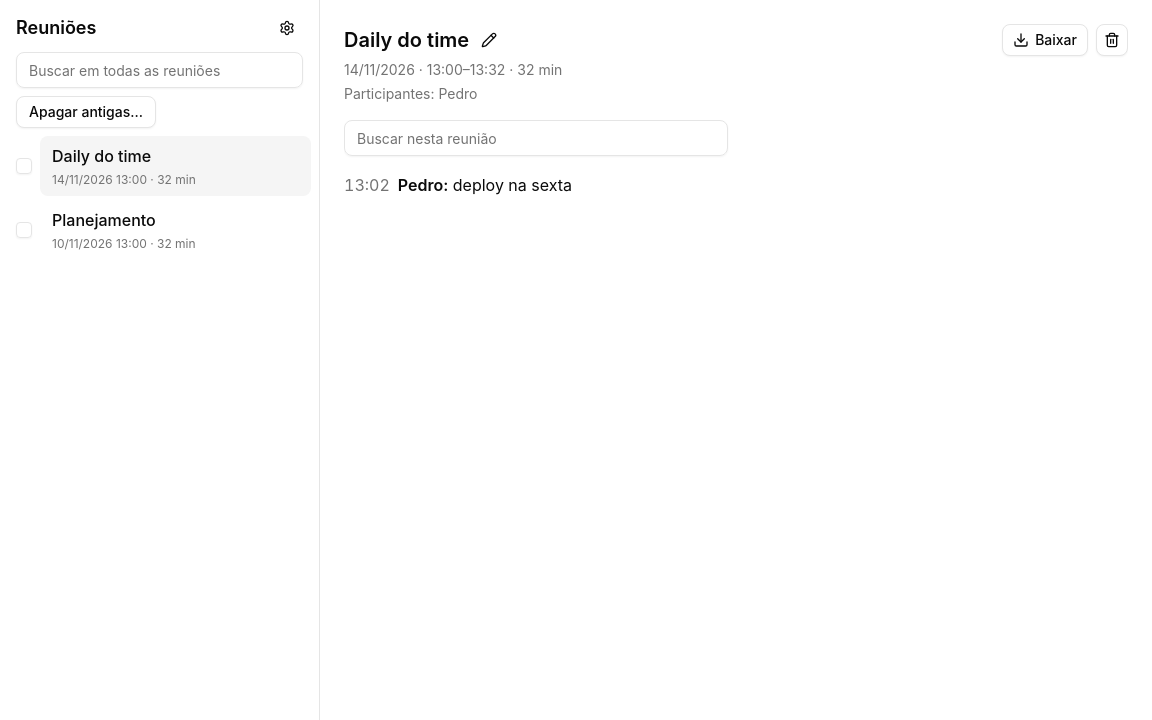
Test: MeetingsApp › a busca geral filtra a lista
Expected: the button "Planejamento 10/11/2026 13:00 · 32 min" is shown, [40, 200, 311, 260]
Type "trimestre" into the field labelled "Buscar em todas as reuniões" at (160, 70), box [16, 52, 303, 88]
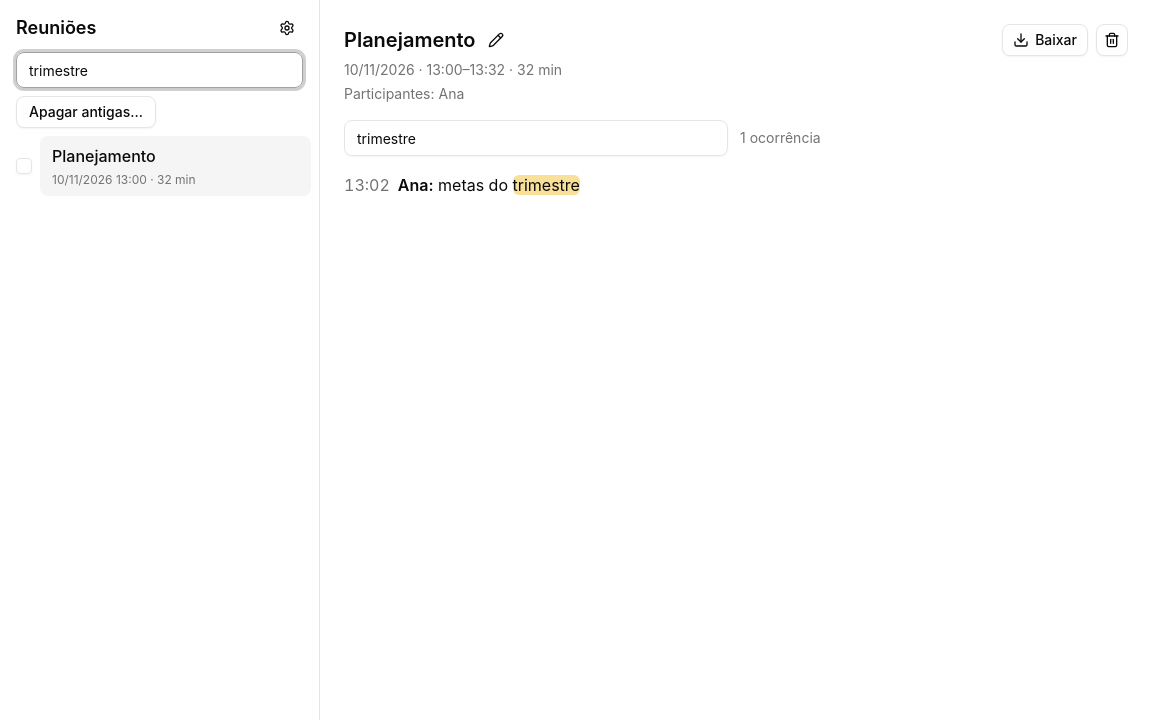
Expected: the button "Planejamento 10/11/2026 13:00 · 32 min" is shown, [40, 136, 311, 196]
Result: the button "Daily do time" is gone
